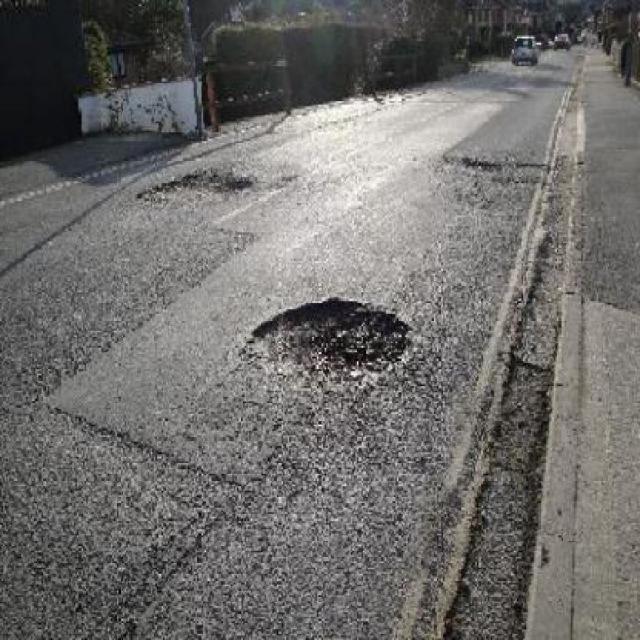Pothole: (239, 292, 416, 391), (134, 166, 252, 205)
